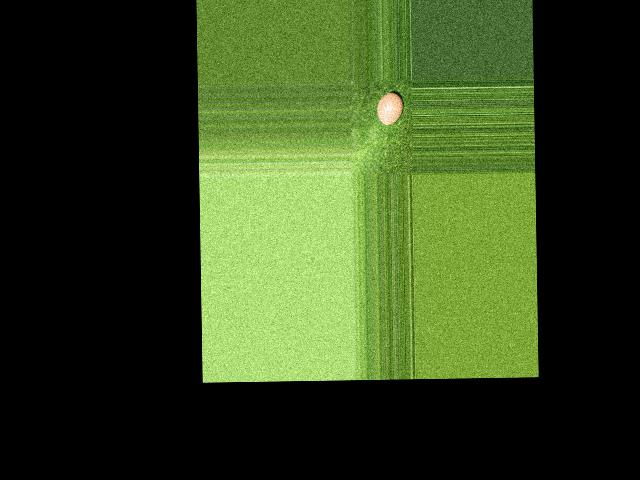egg: (377, 92, 403, 125)
